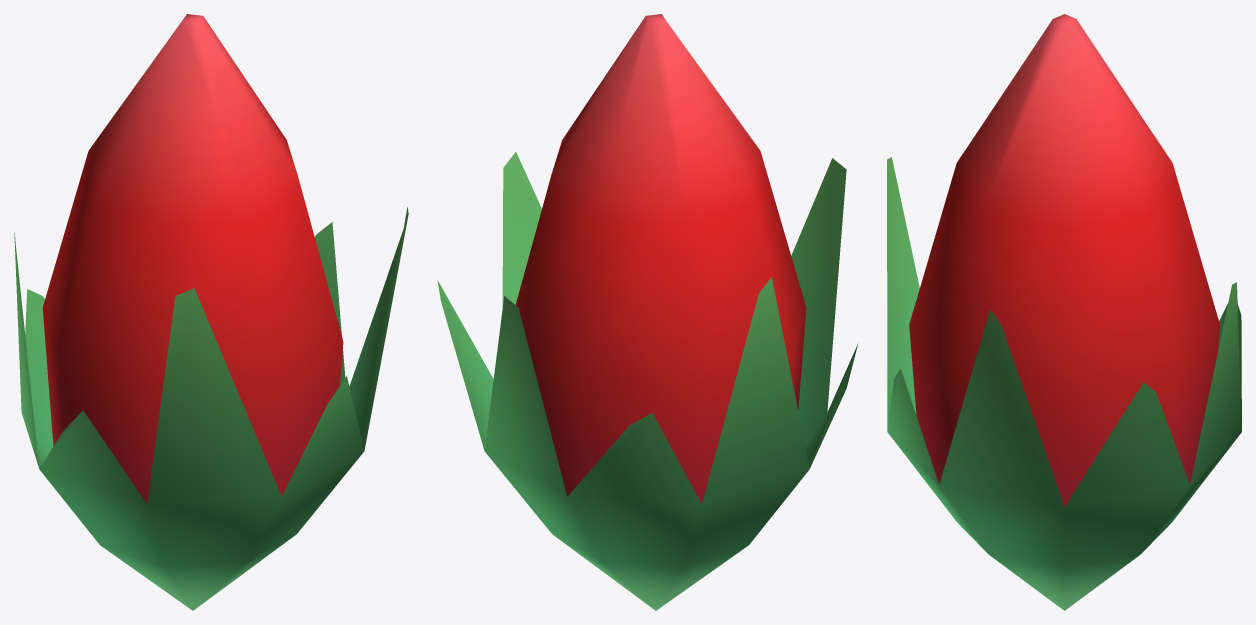
File: RoseBud_Red.fbx
The picture shows the model from 3 angles, left to right: view 1: azimuth 30°, elevation 25°; view 2: azimuth 150°, elevation 25°; view 3: azimuth 270°, elevation 25°; orthographic projection.
Parts seen in each view (by area): view 1: RoseBud_Red; view 2: RoseBud_Red; view 3: RoseBud_Red.
Part boxes in pixels (x1,y1,x2,y2): RoseBud_Red: [14, 14, 408, 610]; RoseBud_Red: [437, 14, 858, 610]; RoseBud_Red: [887, 14, 1241, 610].
Size of the model in its own units: 13.28 by 21.8 by 11.85.
